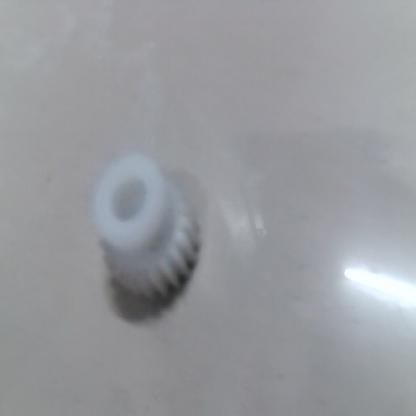FOD: (90, 152, 215, 322)
